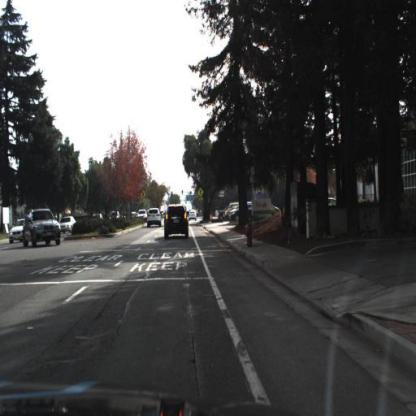car: (22, 205, 62, 250), (226, 201, 264, 228), (165, 203, 189, 239), (146, 205, 164, 230), (59, 213, 77, 237), (57, 214, 78, 233), (147, 209, 164, 230), (90, 212, 105, 225)
